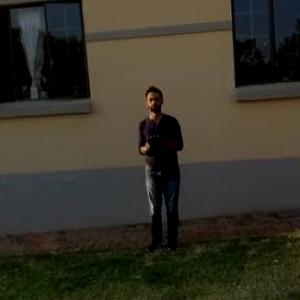follow: (137, 80, 193, 256)
